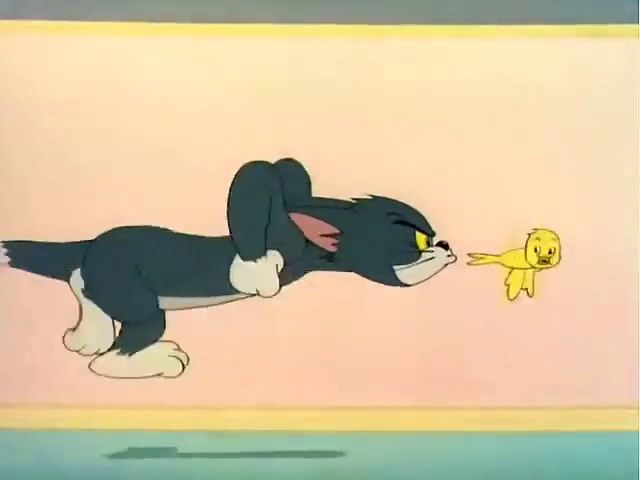tom: (2, 130, 474, 417)
